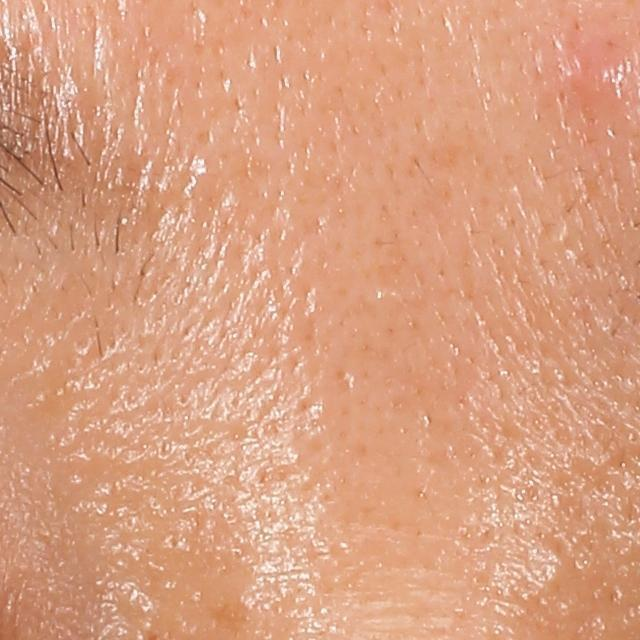melasma: (206, 601, 250, 635)
papule: (560, 37, 637, 115)
